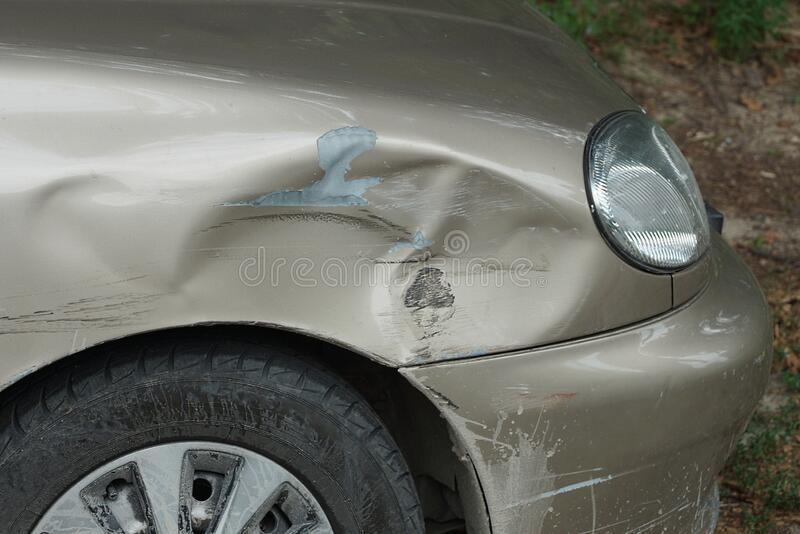fender-dent: (0, 123, 498, 428)
front-bumper-dent: (326, 354, 799, 534)
